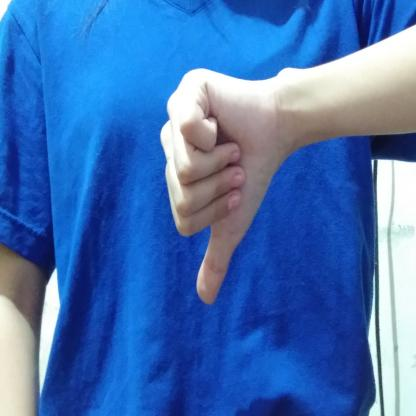no: (154, 62, 296, 314)
